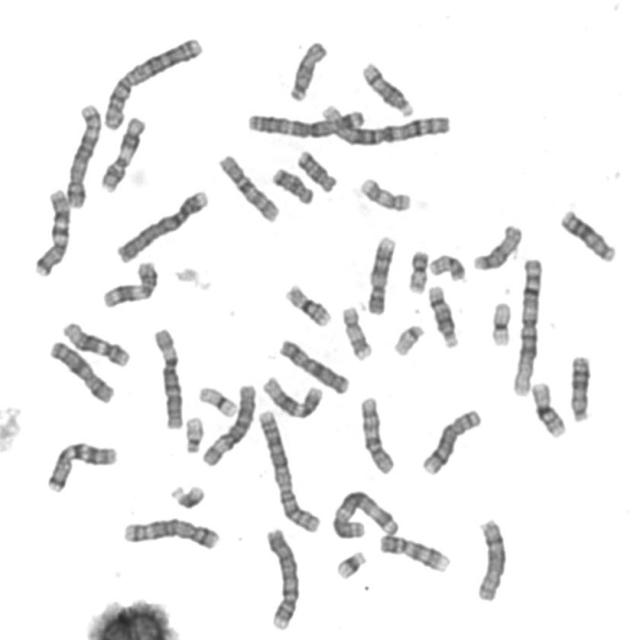A1: (316, 100, 452, 148), (509, 252, 545, 398)
A2: (98, 32, 205, 132), (254, 406, 323, 535)
A3: (244, 104, 368, 140), (329, 486, 401, 542)
B4: (112, 185, 211, 265), (262, 524, 302, 632)
B5: (62, 99, 104, 210), (119, 515, 222, 551)
C10: (215, 150, 282, 225), (356, 392, 398, 477)
C11: (97, 113, 148, 194), (100, 257, 160, 310)
C12: (58, 317, 133, 368), (259, 372, 325, 421)
C6: (198, 379, 258, 468), (149, 323, 187, 432)
C7: (43, 437, 121, 495), (31, 185, 74, 279)
C8: (419, 404, 485, 477), (472, 514, 508, 604)
C9: (376, 529, 452, 575), (364, 232, 398, 316)
D13: (558, 205, 620, 264), (567, 351, 594, 424)
D14: (358, 57, 416, 119), (424, 280, 462, 350)
D15: (285, 37, 330, 103), (470, 220, 526, 272)
E16: (527, 378, 569, 440), (282, 280, 334, 328)
E17: (356, 172, 414, 214), (338, 302, 374, 362)
E18: (294, 146, 339, 194), (268, 163, 316, 206)
F19: (195, 382, 239, 418), (488, 297, 514, 348)
F20: (426, 250, 469, 283), (404, 246, 432, 296)
G21: (332, 546, 368, 582), (167, 480, 207, 511)
G22: (390, 320, 427, 358), (181, 412, 206, 455)
X: (46, 336, 116, 405), (276, 334, 352, 396)
